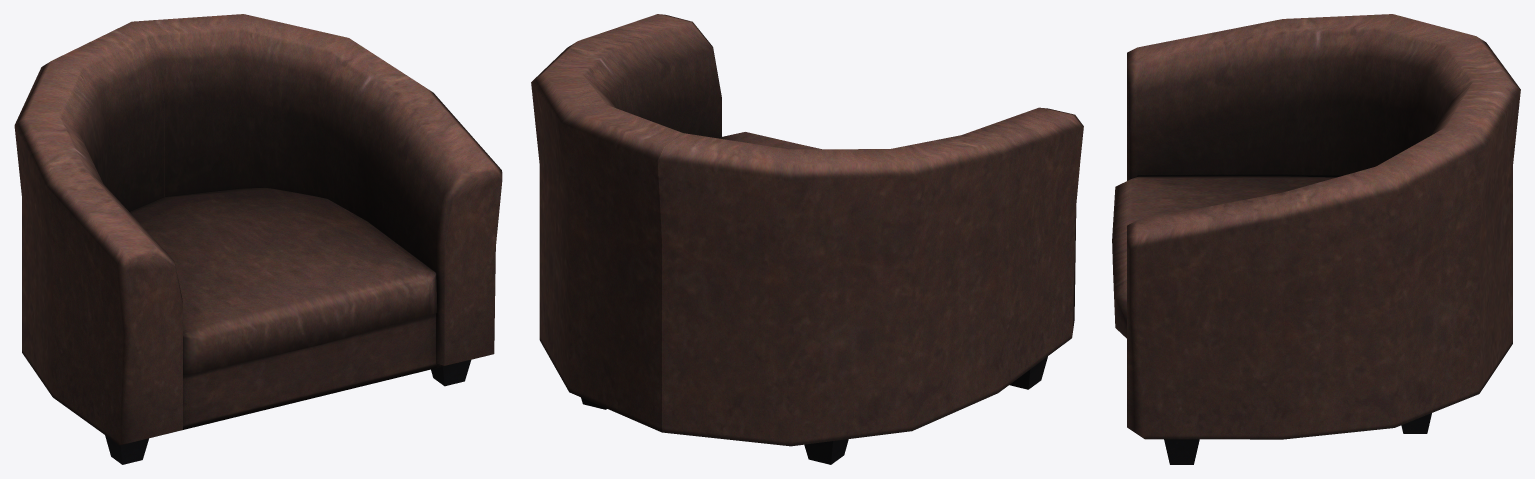
Rendered from Sun_0081_Casual_chair.fbx.
3 views of the same model, side by side, from view 1: azimuth 30°, elevation 25°; view 2: azimuth 150°, elevation 25°; view 3: azimuth 270°, elevation 25° (orthographic). The views are drawn at different scales.
Visible parts, largest first — view 1: Sun_0081_Casual_chair; view 2: Sun_0081_Casual_chair; view 3: Sun_0081_Casual_chair.
Boxes of the visible parts, x1=… form: Sun_0081_Casual_chair: x1=14, y1=14, x2=502, y2=464; Sun_0081_Casual_chair: x1=531, y1=14, x2=1083, y2=464; Sun_0081_Casual_chair: x1=1112, y1=14, x2=1520, y2=464.
Bounding box in the file's own units: 92.04 × 64.28 × 80.29.
